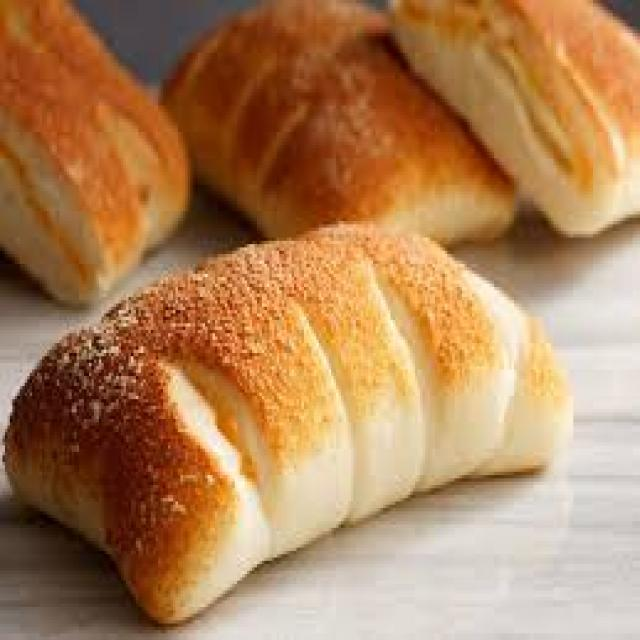organic waste: (0, 218, 568, 617), (153, 0, 512, 254), (386, 0, 638, 228), (0, 0, 185, 303)
